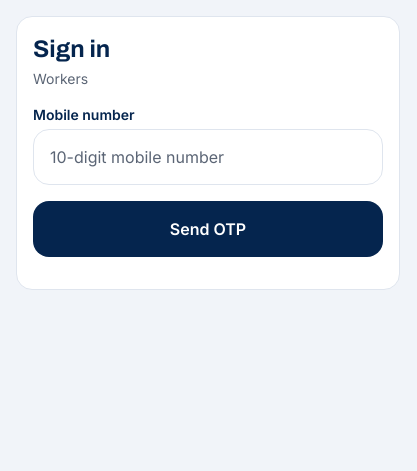
OtpLogin › reports a backend failure separately from a wrong code
Type "9876543210" into the field labelled "Mobile number" at (208, 157), box [33, 129, 383, 185]
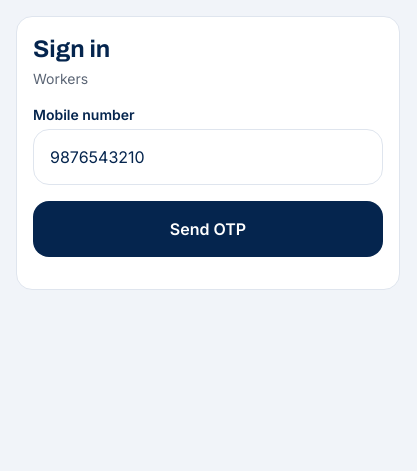
Click the button "Send OTP" at (208, 229), box [33, 201, 383, 257]
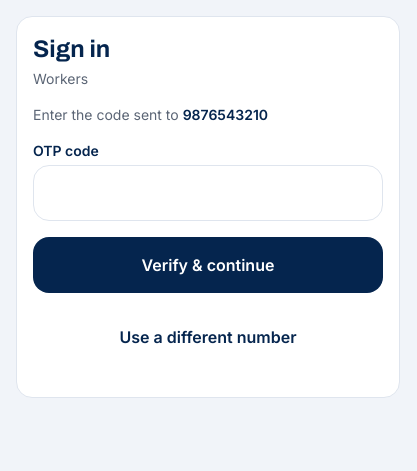
Type "123456" into the field labelled "OTP code" at (208, 193), box [33, 165, 383, 221]
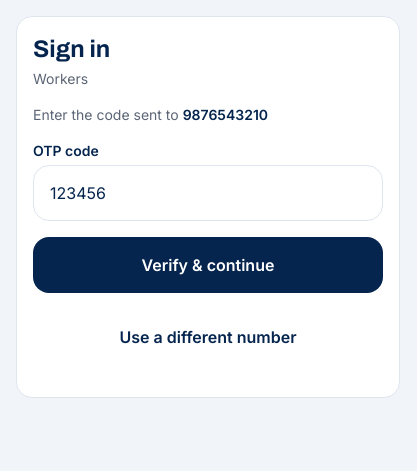
Click the button "Verify & continue" at (208, 265), box [33, 237, 383, 293]
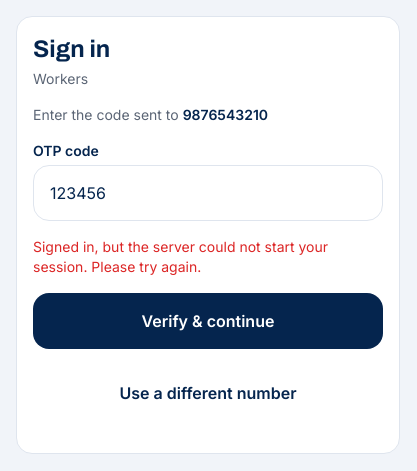
Expected: the text "server could not start your session" is shown, [33, 238, 328, 275]
